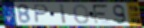8: (17, 3, 32, 24)
9: (112, 4, 127, 25)
F: (91, 4, 110, 25)
I: (59, 3, 68, 25)
O: (73, 4, 91, 25)
P: (34, 4, 50, 24)
